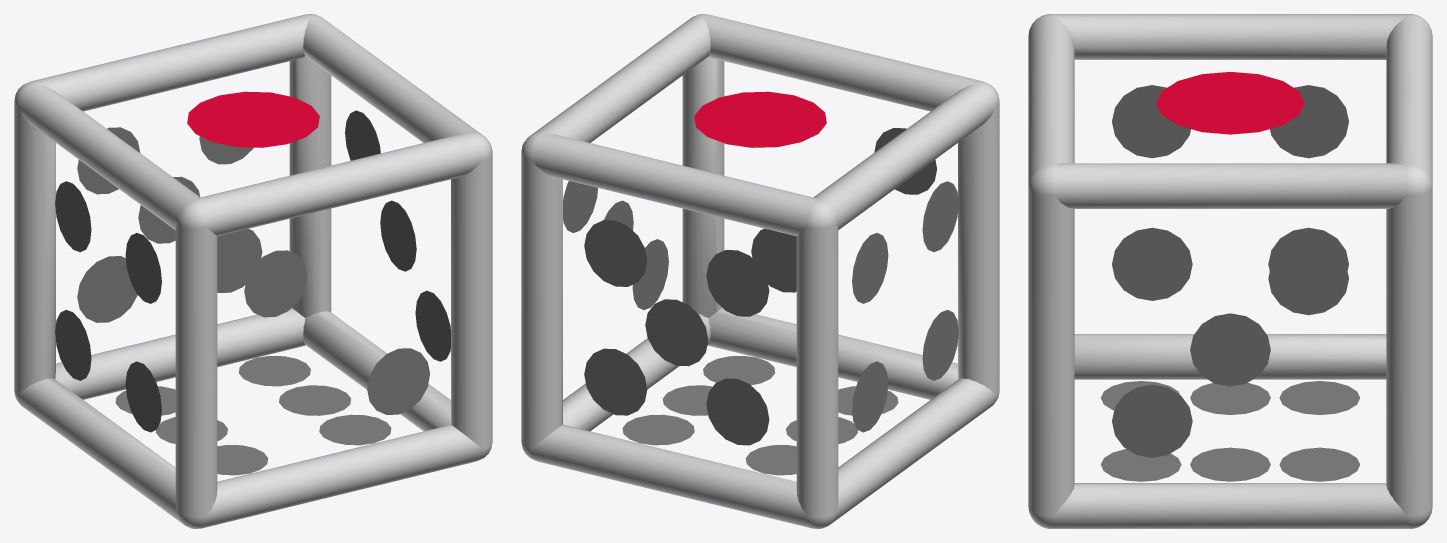
Rendered from Dice.fbx.
3 views of the same model, side by side, from view 1: azimuth 30°, elevation 25°; view 2: azimuth 150°, elevation 25°; view 3: azimuth 270°, elevation 25° (orthographic). The views are drawn at different scales.
Visible parts, largest first — view 1: Dice, DiceEye5, DiceEye6, DiceEye4, DiceEye2, DiceEye1, DiceEye3; view 2: Dice, DiceEye5, DiceEye4, DiceEye6, DiceEye1, DiceEye3, DiceEye2; view 3: Dice, DiceEye3, DiceEye4, DiceEye6, DiceEye1.
Part boxes in pixels (x1,y1,x2,y2): Dice: [14, 14, 492, 528]; DiceEye5: [77, 127, 262, 322]; DiceEye6: [115, 356, 391, 475]; DiceEye4: [55, 181, 161, 432]; DiceEye2: [244, 250, 429, 414]; DiceEye1: [187, 91, 319, 147]; DiceEye3: [345, 110, 450, 361]; Dice: [521, 14, 999, 528]; DiceEye5: [584, 220, 769, 445]; DiceEye4: [852, 181, 958, 432]; DiceEye6: [622, 356, 898, 475]; DiceEye1: [694, 91, 826, 147]; DiceEye3: [563, 181, 668, 309]; DiceEye2: [751, 128, 936, 292]; Dice: [1028, 14, 1432, 528]; DiceEye3: [1112, 242, 1348, 457]; DiceEye4: [1112, 85, 1348, 300]; DiceEye6: [1101, 381, 1359, 481]; DiceEye1: [1156, 72, 1304, 134].
Size of the model in its own units: 430 by 430 by 436.
